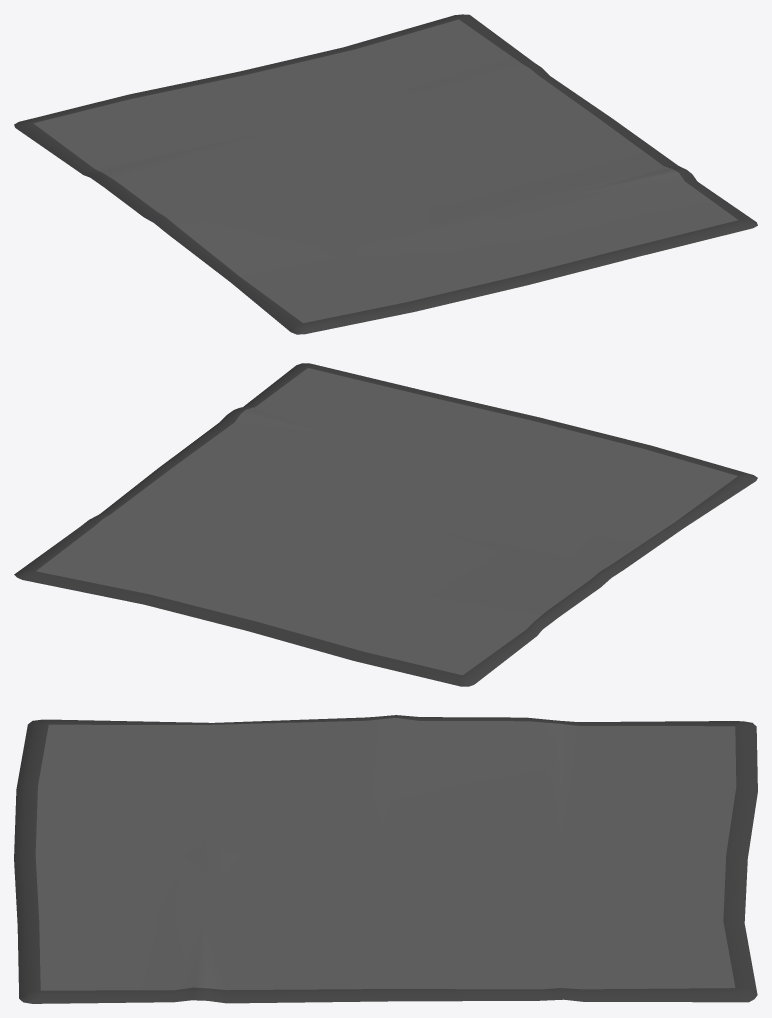
File: carpet_004.fbx
The picture shows the model from 3 angles, top to bottom: view 1: azimuth 30°, elevation 25°; view 2: azimuth 150°, elevation 25°; view 3: azimuth 270°, elevation 25°; orthographic projection. The views are drawn at different scales.
Parts seen in each view (by area): view 1: carpet_004; view 2: carpet_004; view 3: carpet_004.
Part boxes in pixels (x1,y1,x2,y2): carpet_004: [14, 14, 757, 334]; carpet_004: [14, 363, 757, 686]; carpet_004: [14, 715, 757, 1003].
Size of the model in its own units: 422 by 466 by 7.71.
